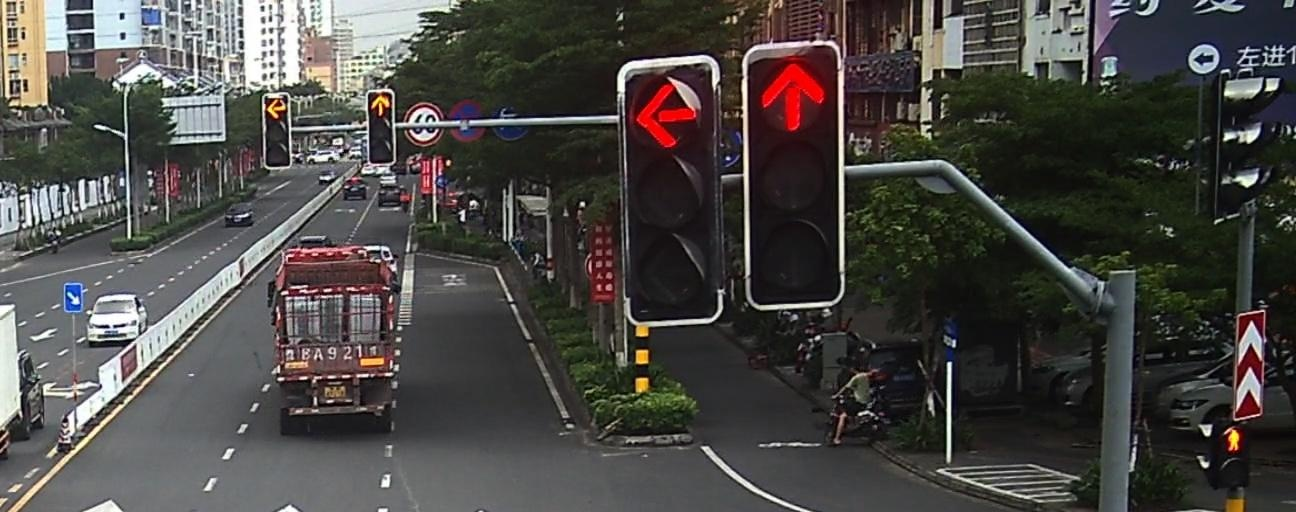redleft: (632, 78, 703, 150), (264, 98, 290, 121)
redpeople: (1221, 423, 1244, 454)
redstraight: (755, 59, 828, 134), (369, 92, 393, 116)
